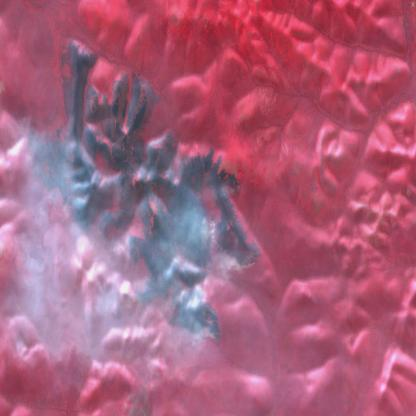fire: (209, 219, 254, 274)
